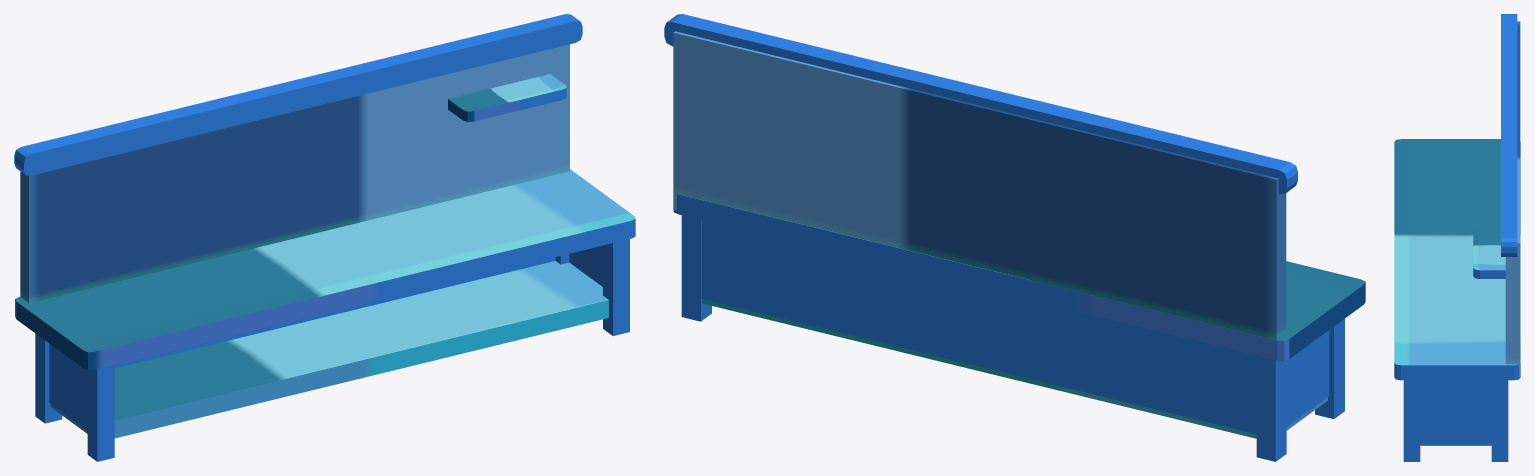
File: Return_Inspection_Table.fbx
3 views of the same model, side by side, from view 1: azimuth 30°, elevation 25°; view 2: azimuth 150°, elevation 25°; view 3: azimuth 270°, elevation 25° (orthographic). The views are drawn at different scales.
Visible parts, largest first — view 1: Return_Inspection_Table; view 2: Return_Inspection_Table; view 3: Return_Inspection_Table.
Part boxes in pixels (x1=…): Return_Inspection_Table: x1=14, y1=14, x2=635, y2=461; Return_Inspection_Table: x1=664, y1=14, x2=1365, y2=461; Return_Inspection_Table: x1=1394, y1=14, x2=1520, y2=461.
Bounding box in the file's own units: 368 × 168 × 85.48.
